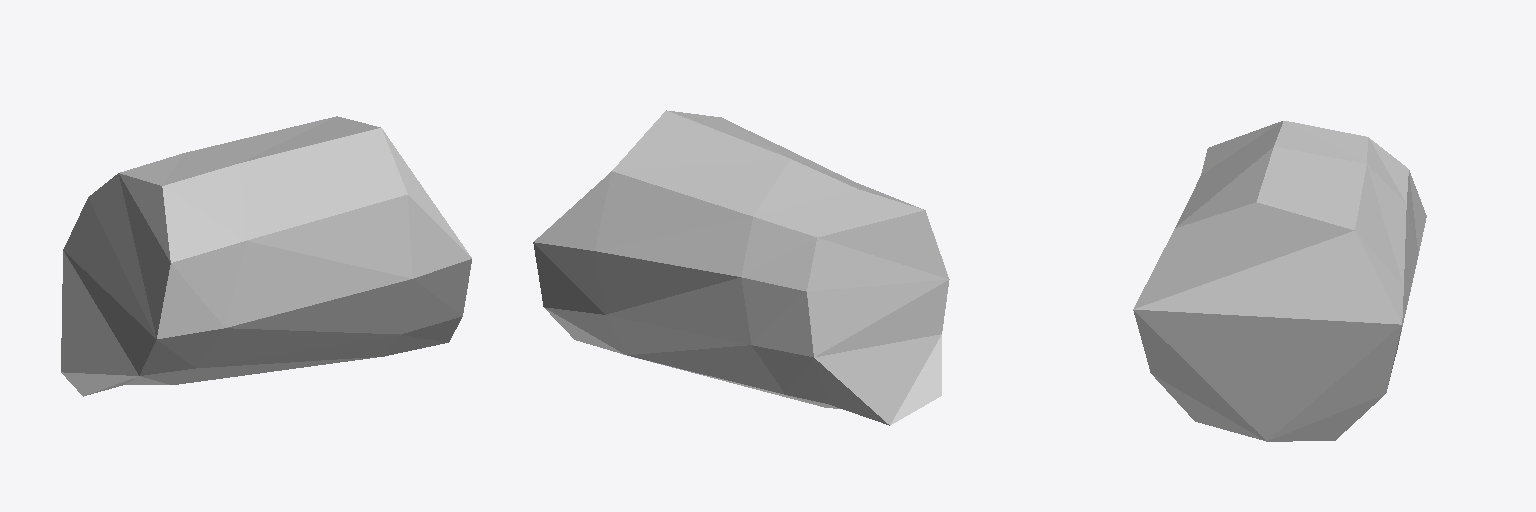
Rendered from mid2.obj.
The picture shows the model from 3 angles: view 1: azimuth 30°, elevation 25°; view 2: azimuth 150°, elevation 25°; view 3: azimuth 270°, elevation 25°; orthographic projection.
Bounding box in the file's own units: 28.86 × 17.35 × 21.14.